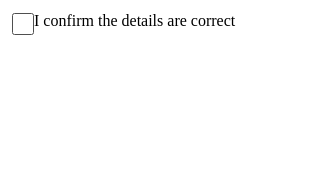
Test case: Checkbox › toggles when the label is clicked
The image size is (332, 172).
Click the text "I confirm the details are correct".
click(135, 20)  # box [34,12,235,29]
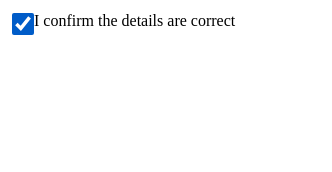
Result: the checkbox is checked at [12,13,34,35]
